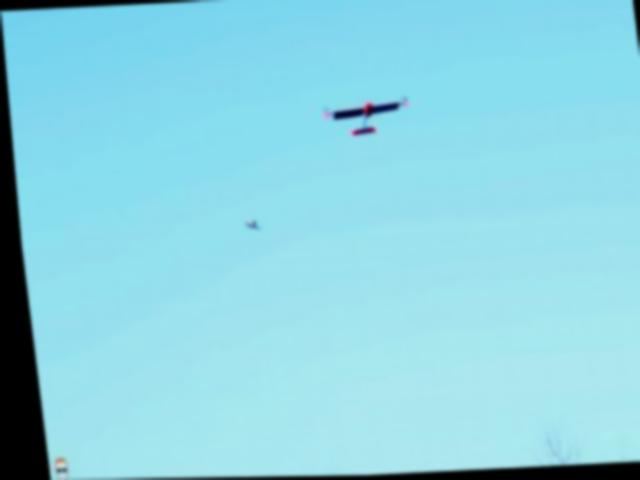uav: (316, 89, 415, 145)
